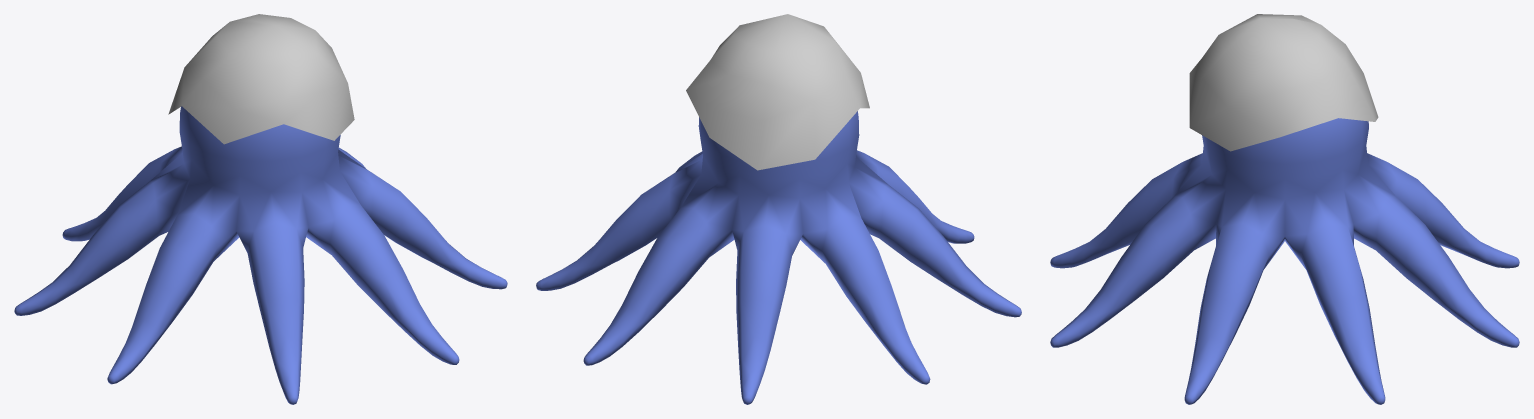
File: rio.fbx
3 renders of one model, left to right at view 1: azimuth 30°, elevation 25°; view 2: azimuth 150°, elevation 25°; view 3: azimuth 270°, elevation 25°, orthographic. The views are drawn at different scales.
Parts seen in each view (by area): view 1: RioObject, RioEggObject; view 2: RioObject, RioEggObject; view 3: RioObject, RioEggObject.
Part boxes in pixels (x1,y1,x2,y2): RioObject: (14, 106, 507, 404); RioEggObject: (168, 14, 354, 144); RioObject: (536, 111, 1021, 404); RioEggObject: (686, 14, 869, 170); RioObject: (1050, 118, 1519, 404); RioEggObject: (1189, 14, 1378, 151).
Size of the model in its own units: 1.28 by 0.8749 by 1.28.
